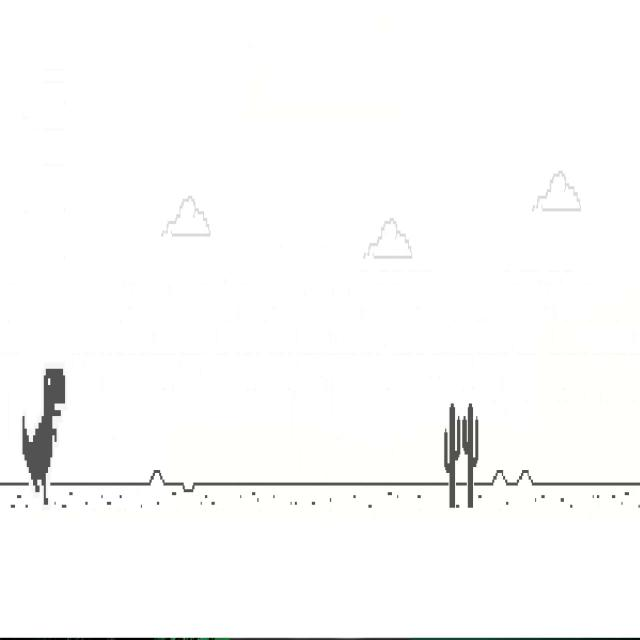cacto: (444, 401, 461, 509), (462, 401, 479, 509)
dino: (21, 366, 66, 506)
